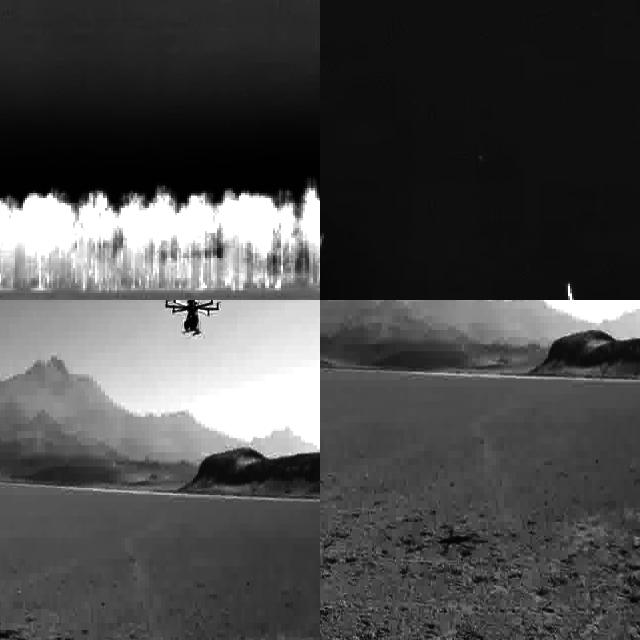0: (471, 146, 497, 174)
drone: (163, 300, 222, 339)
